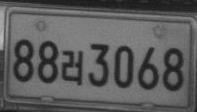0: (112, 44, 134, 88)
3: (87, 43, 109, 87)
6: (136, 46, 160, 90)
8: (36, 39, 59, 83), (12, 38, 34, 83), (162, 47, 184, 92)
러: (61, 49, 83, 85)
